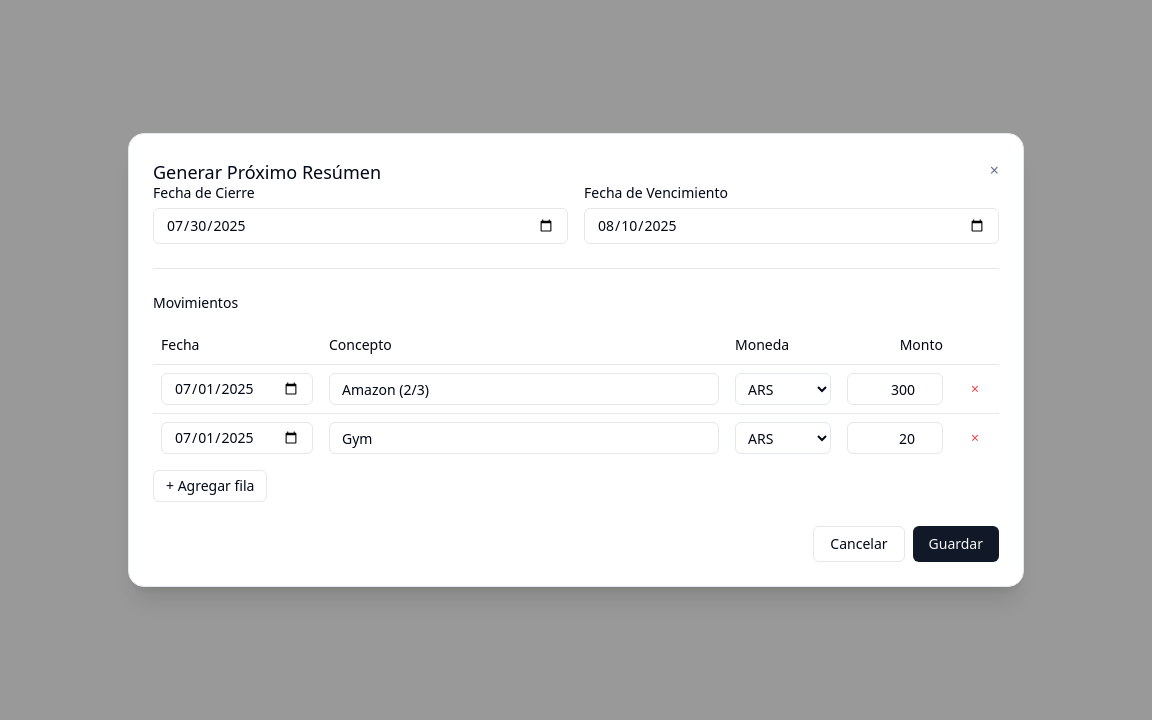
Test: EditStatementModal › draft mode › removes a row when its delete button is clicked and it does not come back on re-render
The image size is (1152, 720).
Click the 2nd button "×" at (975, 389), box top-left (959, 373), bottom-right (991, 405)
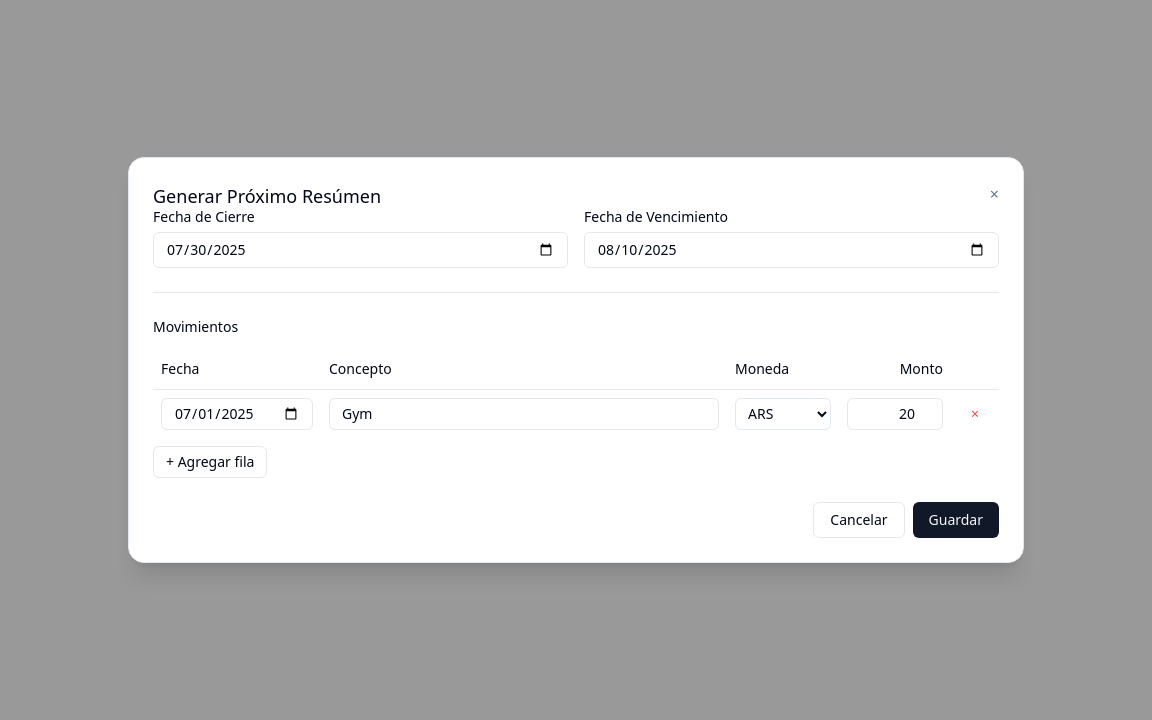
Expected: the field showing "Amazon (2/3)" is not shown
Type "!" into the field showing "Gym" at (524, 414), box top-left (329, 398), bottom-right (719, 430)
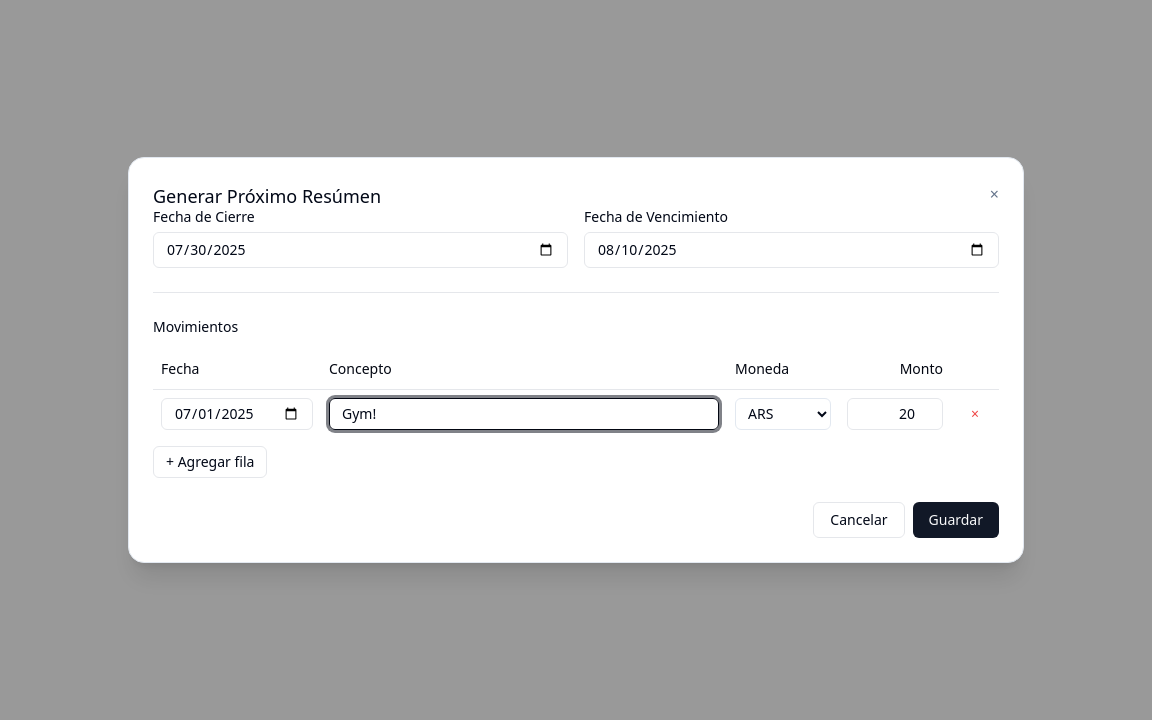
Expected: the field showing "Amazon (2/3)" is not shown
Expected: the field showing "Gym!" is shown, top-left (329, 398), bottom-right (719, 430)
